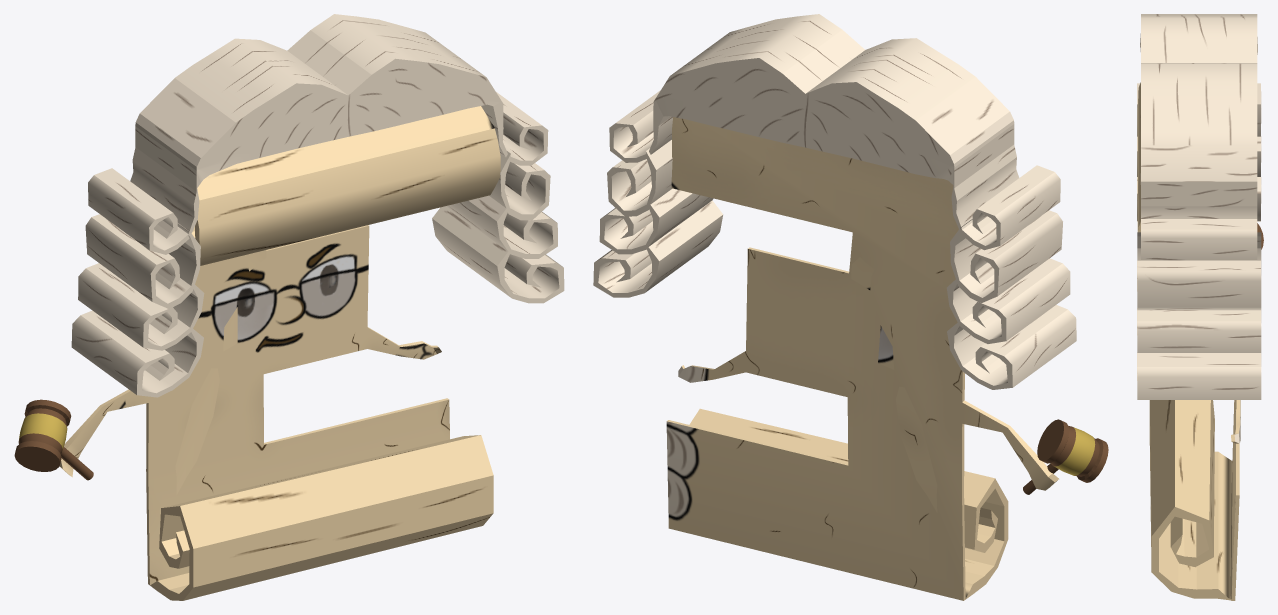
Rendered from Judge Mental.fbx.
The picture shows the model from 3 angles, left to right: view 1: azimuth 30°, elevation 25°; view 2: azimuth 150°, elevation 25°; view 3: azimuth 270°, elevation 25°; orthographic projection. The views are drawn at different scales.
Visible parts, largest first — view 1: Judge, hair, judge_hammer; view 2: Judge, hair, judge_hammer; view 3: hair, Judge.
Part boxes in pixels (x1=…): Judge: x1=59, y1=106, x2=500, y2=600; hair: x1=71, y1=14, x2=564, y2=397; judge_hammer: x1=14, y1=399, x2=93, y2=480; Judge: x1=666, y1=117, x2=1058, y2=600; hair: x1=593, y1=14, x2=1076, y2=389; judge_hammer: x1=1023, y1=419, x2=1108, y2=494; hair: x1=1137, y1=14, x2=1261, y2=399; Judge: x1=1137, y1=82, x2=1240, y2=600.
Bounding box in the file's own units: 7.13 × 6.96 × 1.64.
5 materials, 2 textured.
